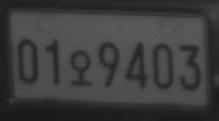0: (17, 38, 39, 84), (153, 43, 174, 89)
1: (42, 40, 65, 85)
3: (178, 43, 202, 91)
4: (124, 41, 149, 90)
9: (98, 41, 120, 87)
오: (69, 49, 93, 87)
